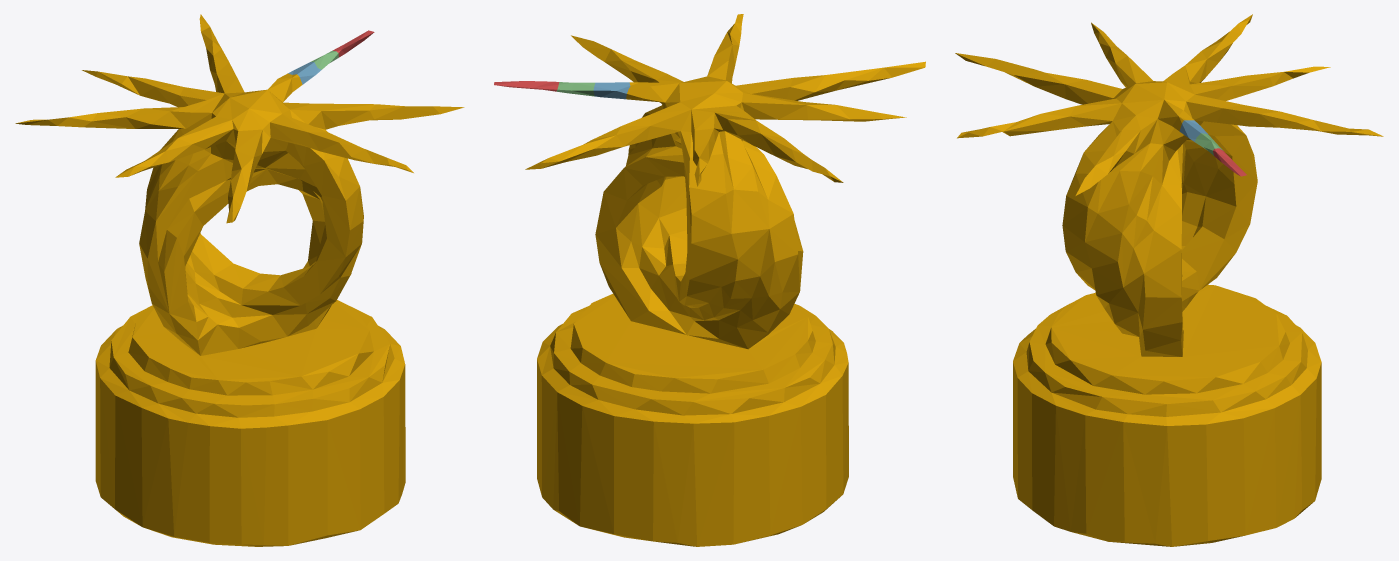
The model's file is fractured_43_4pcs.glb.
The picture shows the model from 3 angles, left to right: view 1: azimuth 30°, elevation 25°; view 2: azimuth 150°, elevation 25°; view 3: azimuth 270°, elevation 25°; orthographic projection.
Visible parts, largest first — view 1: piece_0.obj; view 2: piece_0.obj, piece_2.obj; view 3: piece_0.obj.
Boxes of the visible parts, x1,y1,x2,y2 form: piece_0.obj: [15, 14, 464, 546]; piece_0.obj: [525, 14, 925, 546]; piece_2.obj: [593, 82, 630, 99]; piece_0.obj: [955, 14, 1383, 546].
Bounding box in the file's own units: 0.9659 × 1 × 0.9985.
